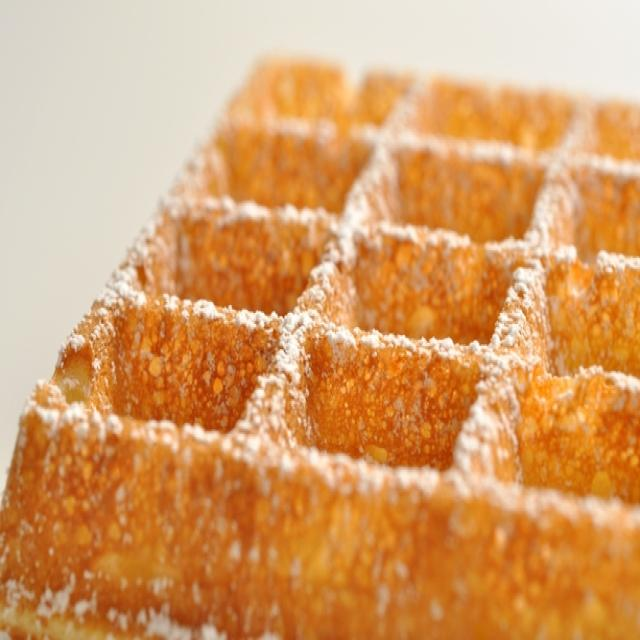炸货点心: (3, 24, 612, 613)
蛋糕甜品: (3, 24, 612, 613)
